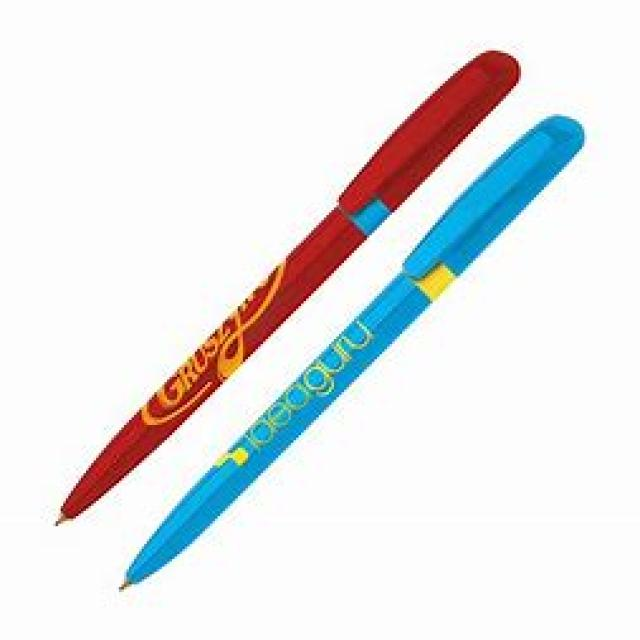pen: (47, 46, 583, 594)
